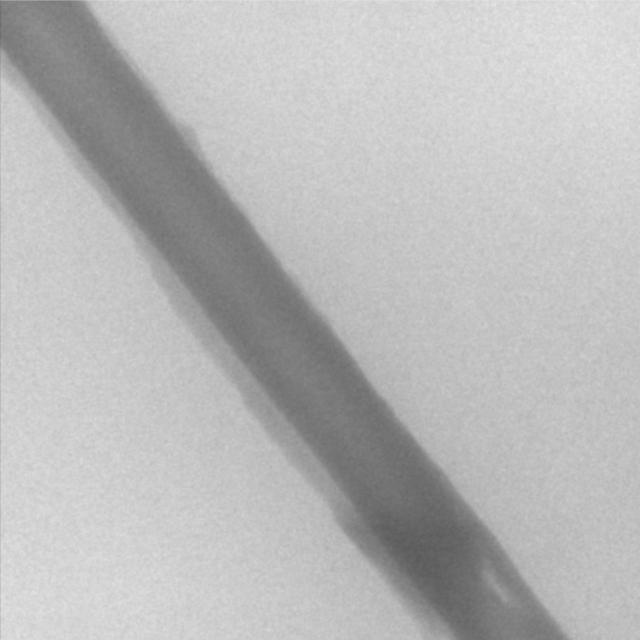unfused: (476, 551, 521, 610)
